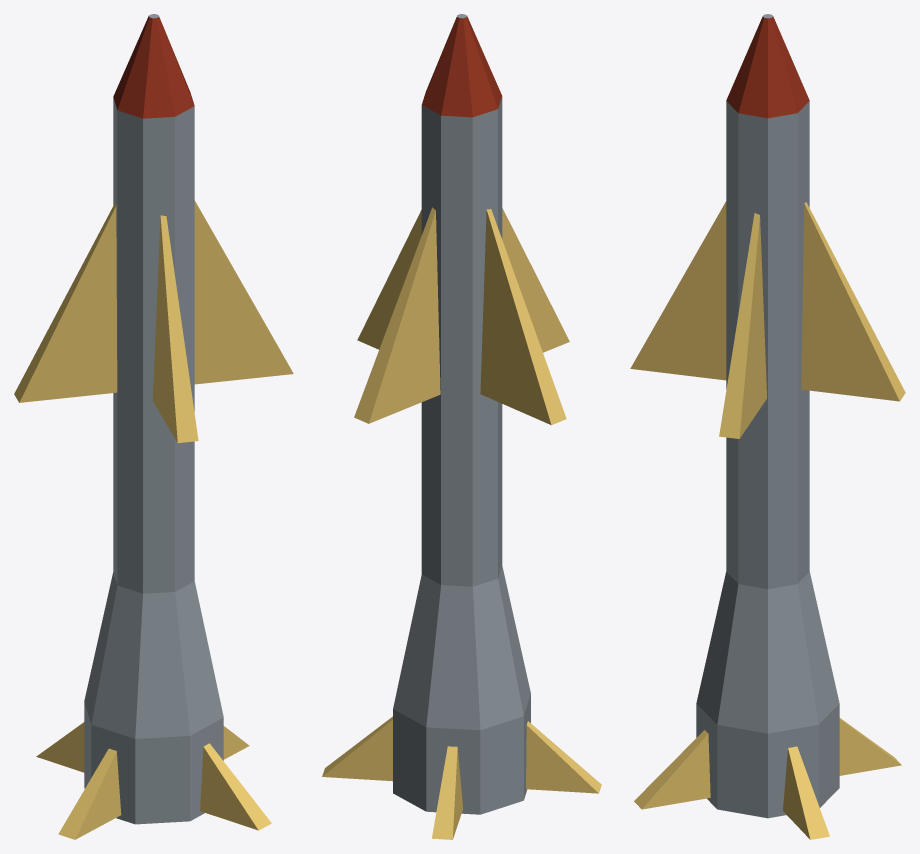
File: Missile.fbx
The picture shows the model from 3 angles, left to right: view 1: azimuth 30°, elevation 25°; view 2: azimuth 150°, elevation 25°; view 3: azimuth 270°, elevation 25°; orthographic projection.
Visible parts, largest first — view 1: Cylinder.107; view 2: Cylinder.107; view 3: Cylinder.107.
Boxes of the visible parts, box(x1,y1,x2,y2) form: Cylinder.107: box(14, 14, 293, 839); Cylinder.107: box(322, 14, 601, 839); Cylinder.107: box(630, 14, 905, 839).
Bounding box in the file's own units: 38.28 × 118 × 38.28.
